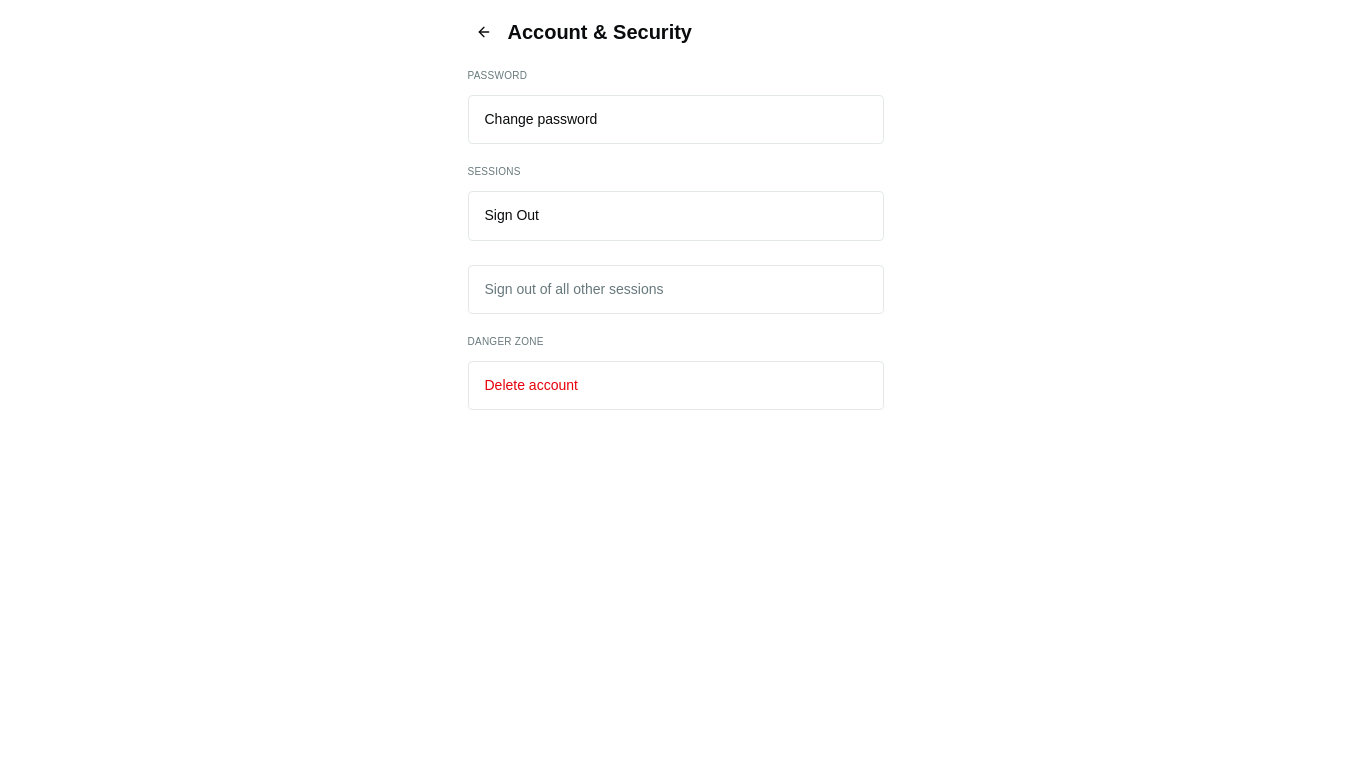
Scenario: signing out of all other sessions shows a confirm then a success dialog
Expected: the heading "Account & Security" is shown, [508,21,692,43]
What coordinates should you click on to do the following:
click the button "Sign out of all other sessions"
I would click on:
 (574, 288)
Its box is [468,264,884,314].
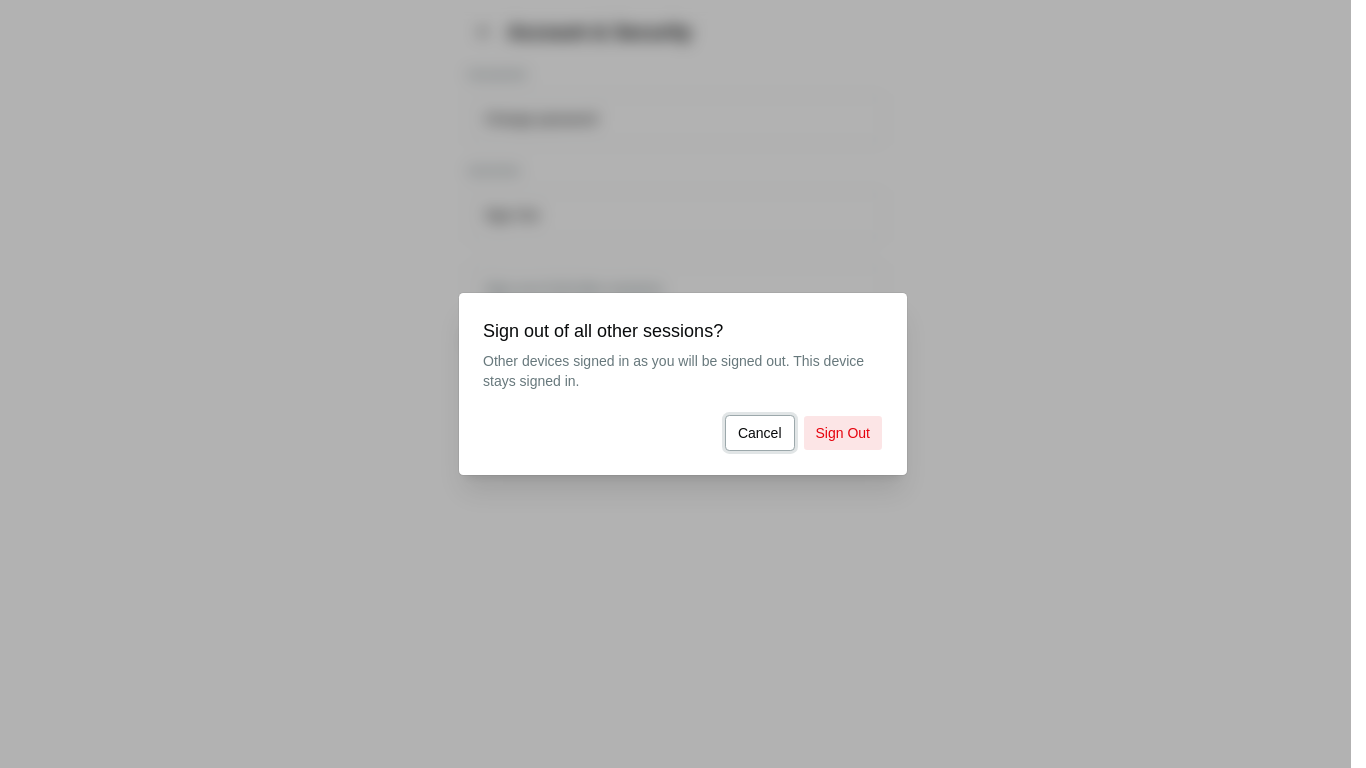
Expected: the heading "Sign out of all other sessions?" is shown, [483,317,723,345]
What coordinates should you click on to do the following:
click the button "Sign Out"
I would click on:
 (843, 433)
Its box is [802,415,883,451].
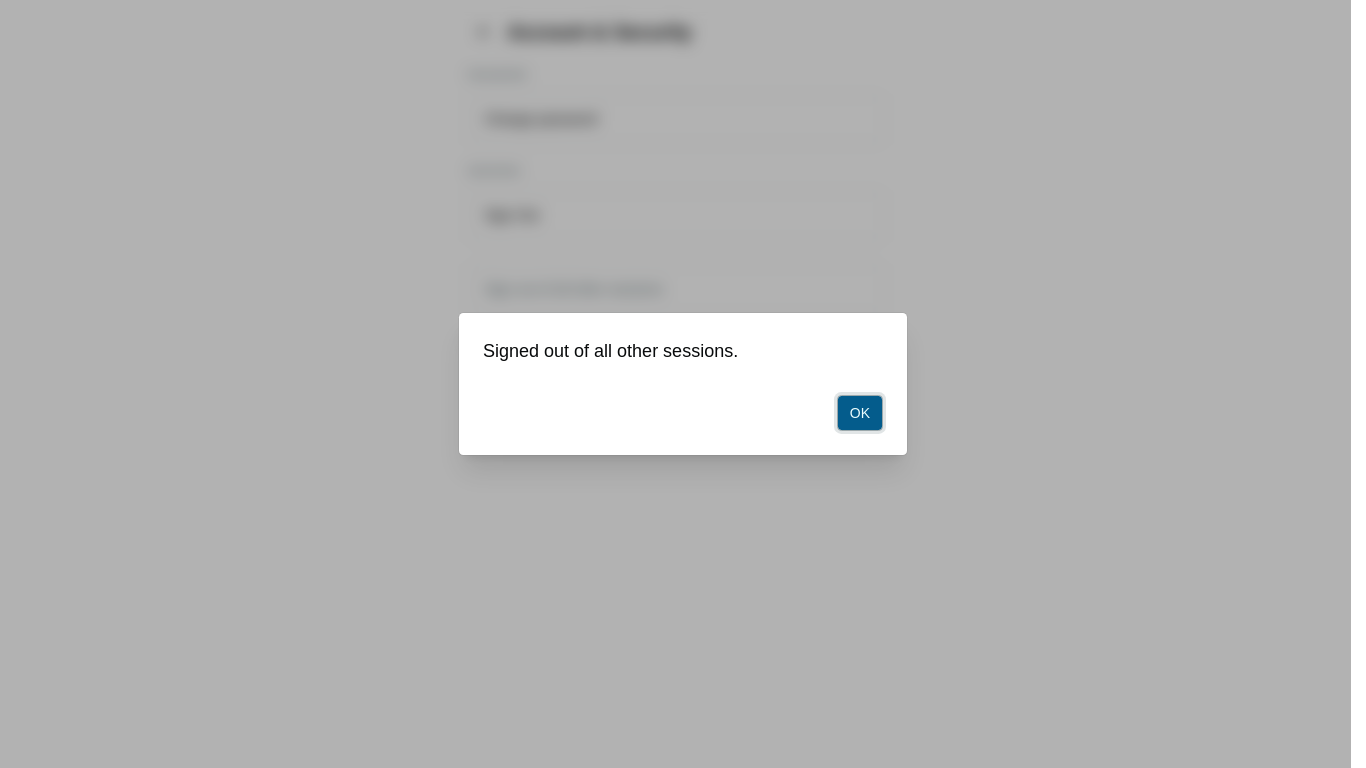
Expected: the heading "Signed out of all other sessions." is shown, [483,337,738,365]
